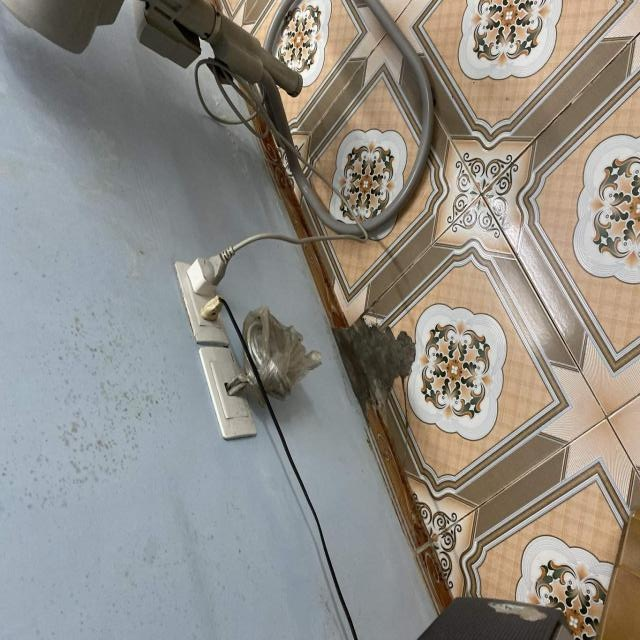outlet: (198, 346, 257, 440), (173, 260, 230, 345)
